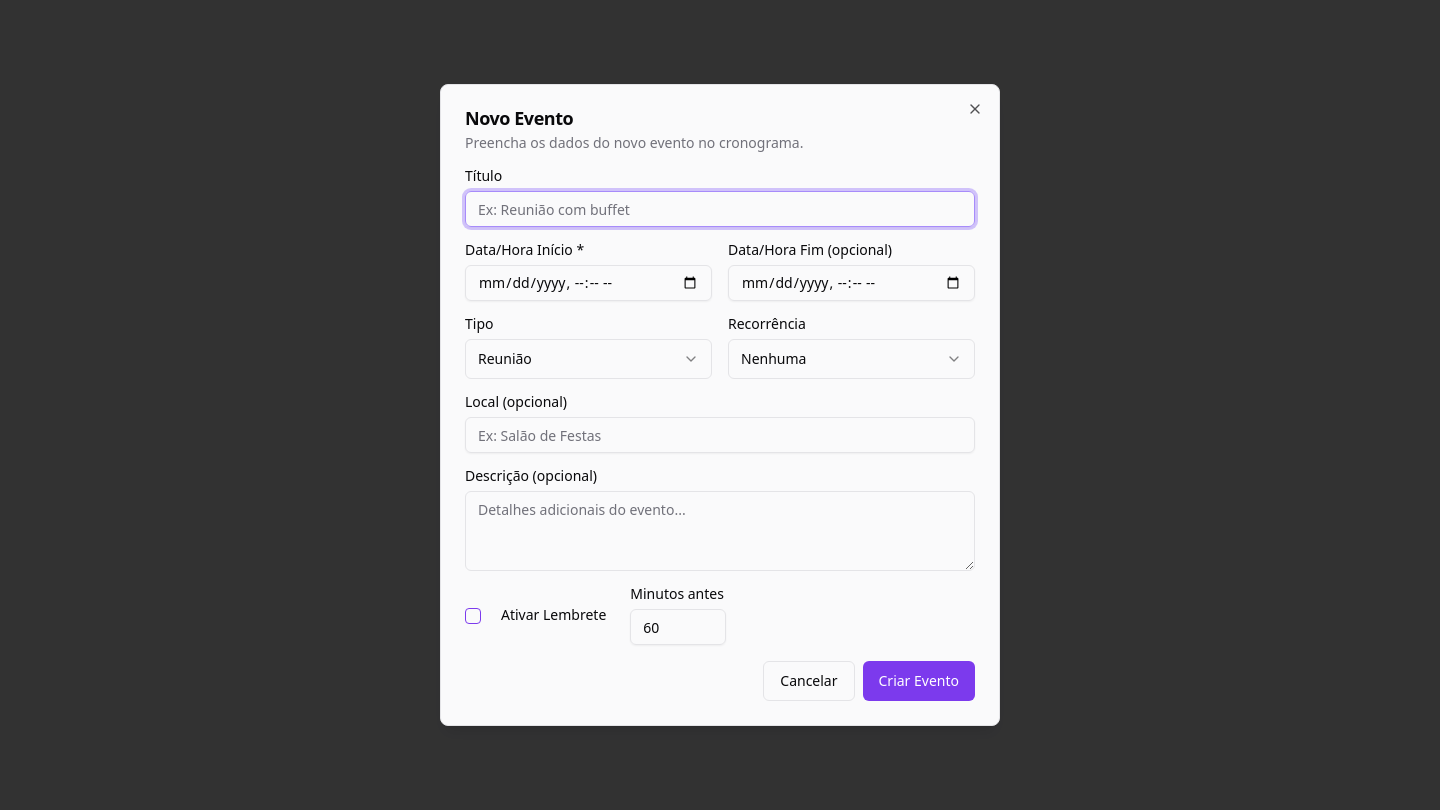
it: CreateEventDialog › shows validation error when end_time is before start_time
Type "Test" into the field labelled "Título" at (720,209), box [465,191,975,227]
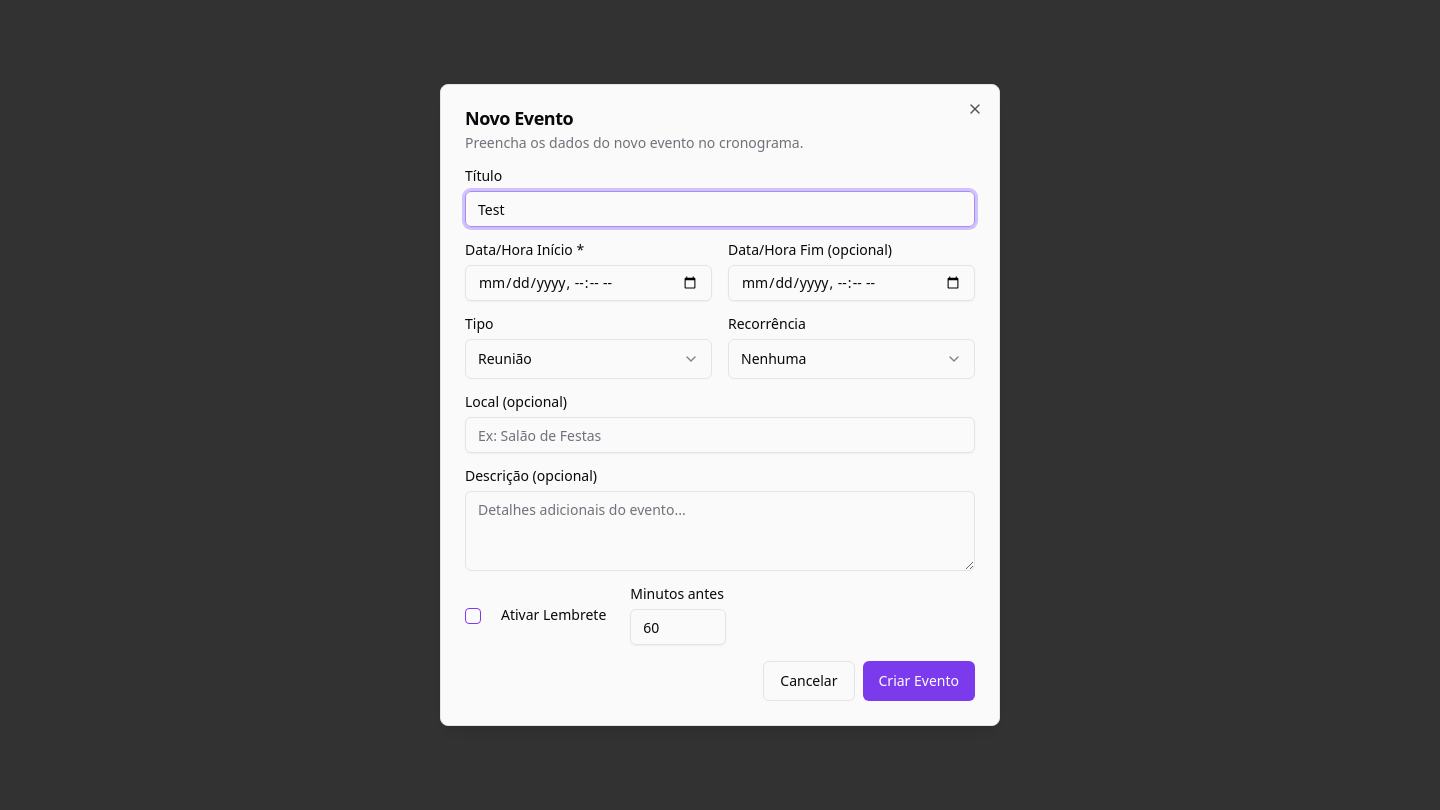
Type "2028-08-15T10:00" into the field labelled "Data/Hora Início *" at (588,283), box [465,265,712,301]
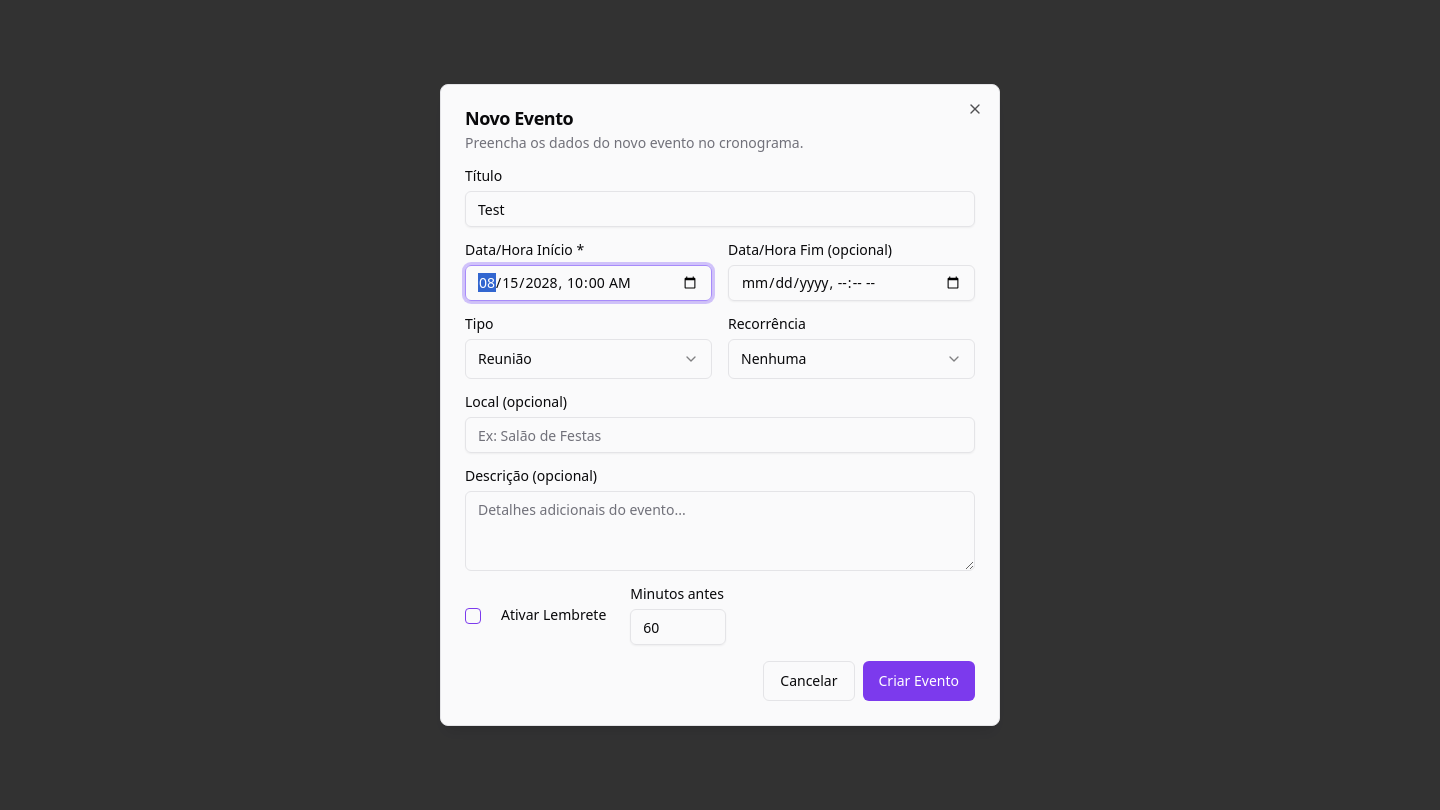
Type "2028-08-15T09:00" into the field labelled "Data/Hora Fim (opcional)" at (852,283), box [728,265,975,301]
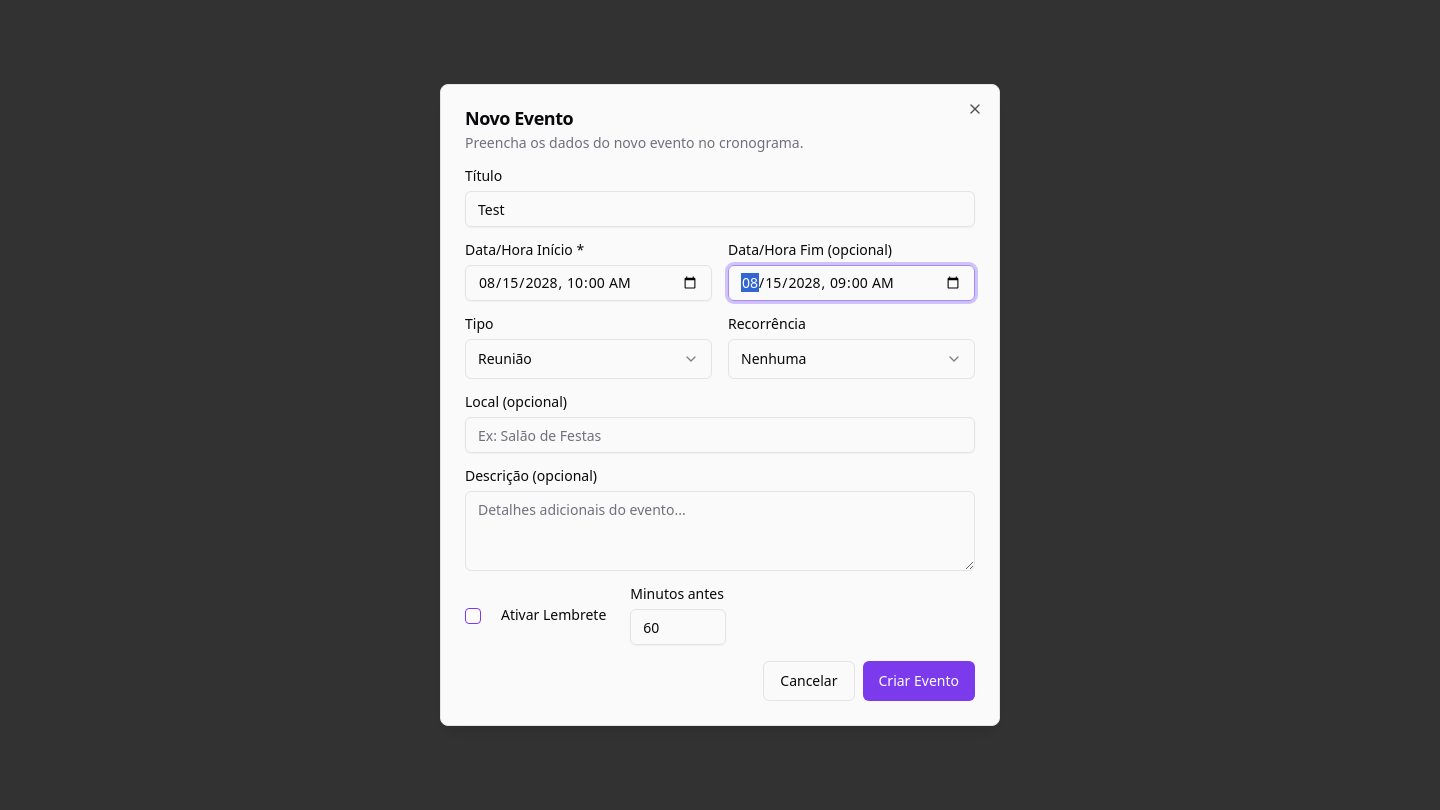
Click the button "Criar Evento" at (919,681), box [862,661,975,701]
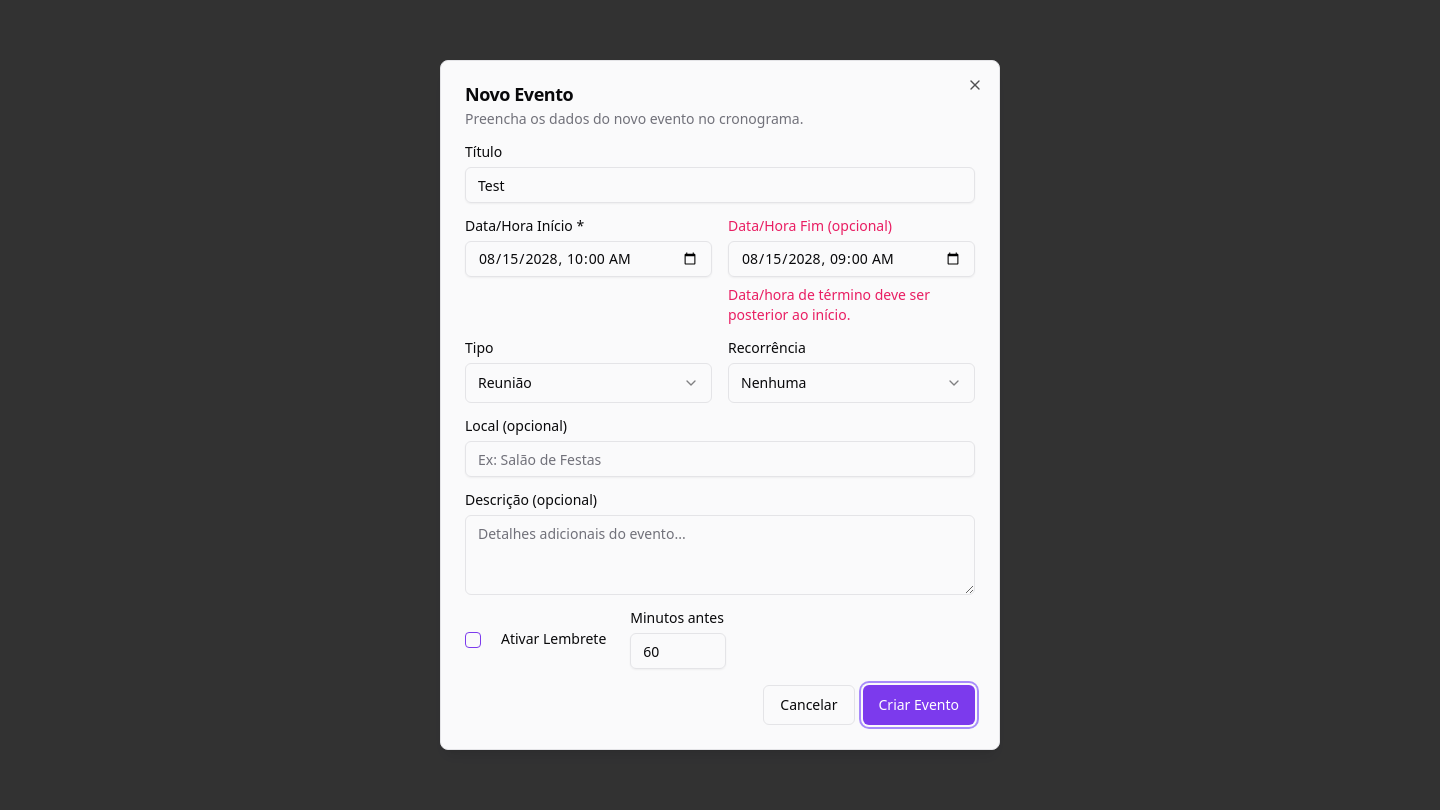
Check: the text "Data/hora de término deve ser posterior ao início." is shown, box [728,285,930,324]
